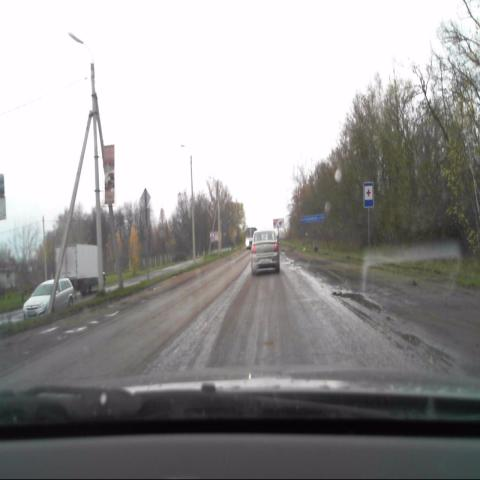7_1: (362, 182, 374, 209)
